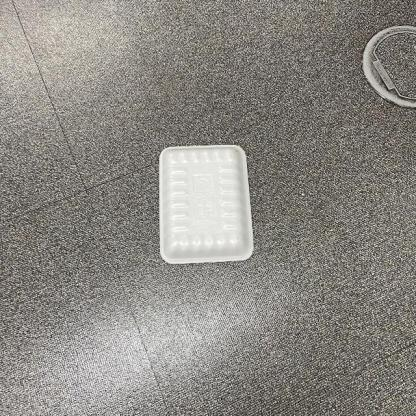Glass Cup: (160, 145, 255, 265), (159, 145, 253, 264)
